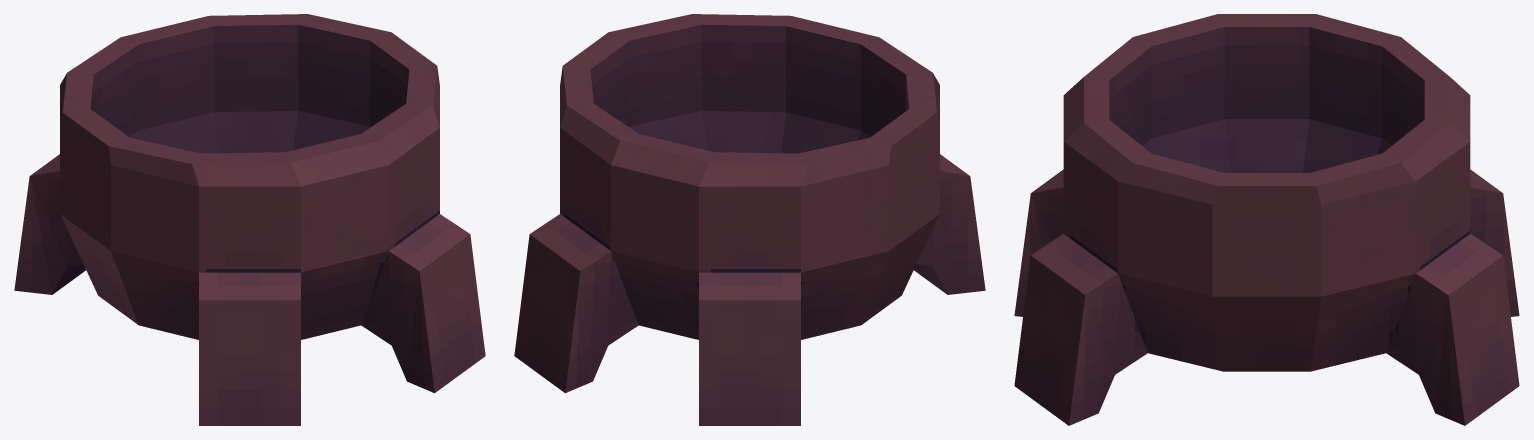
File: cauldron.gltf
3 views of the same model, side by side, from view 1: azimuth 30°, elevation 25°; view 2: azimuth 150°, elevation 25°; view 3: azimuth 270°, elevation 25° (orthographic). The views are drawn at different scales.
Parts seen in each view (by area): view 1: cylinder; view 2: cylinder; view 3: cylinder.
Part boxes in pixels (<box>): cylinder: <box>14,14,485,425</box>; cylinder: <box>514,14,985,425</box>; cylinder: <box>1014,14,1519,425</box>.
Size of the model in its own units: 1.25 by 0.8509 by 1.55.
Materials: 1 (1 with a texture image).
